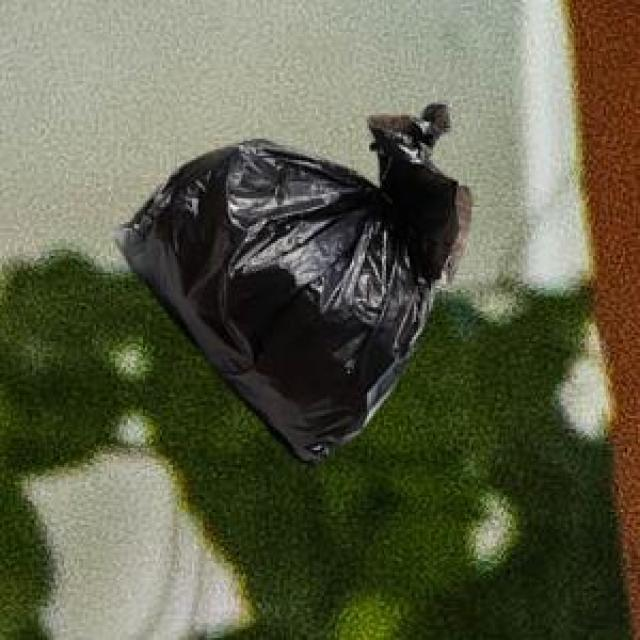waste: (115, 104, 470, 462)
